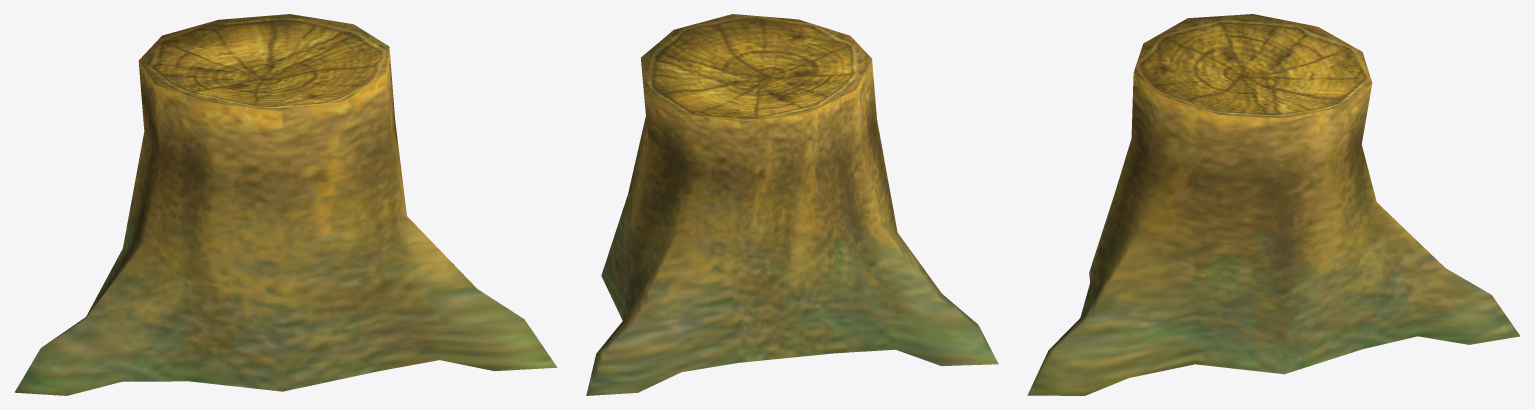
The model's file is INST_MIRK_STUMP_DESTRUCTIBLE.fbx.
The picture shows the model from 3 angles, left to right: view 1: azimuth 30°, elevation 25°; view 2: azimuth 150°, elevation 25°; view 3: azimuth 270°, elevation 25°; orthographic projection. The views are drawn at different scales.
Parts seen in each view (by area): view 1: INST_MIRK_STUMP_DESTRUCTIBLE; view 2: INST_MIRK_STUMP_DESTRUCTIBLE; view 3: INST_MIRK_STUMP_DESTRUCTIBLE.
Boxes of the visible parts, box(x1,y1,x2,y2) form: INST_MIRK_STUMP_DESTRUCTIBLE: box(14, 14, 557, 395); INST_MIRK_STUMP_DESTRUCTIBLE: box(586, 14, 998, 395); INST_MIRK_STUMP_DESTRUCTIBLE: box(1027, 14, 1519, 395).
Size of the model in its own units: 6473 by 3884 by 6763.
2 materials, 2 textured.
